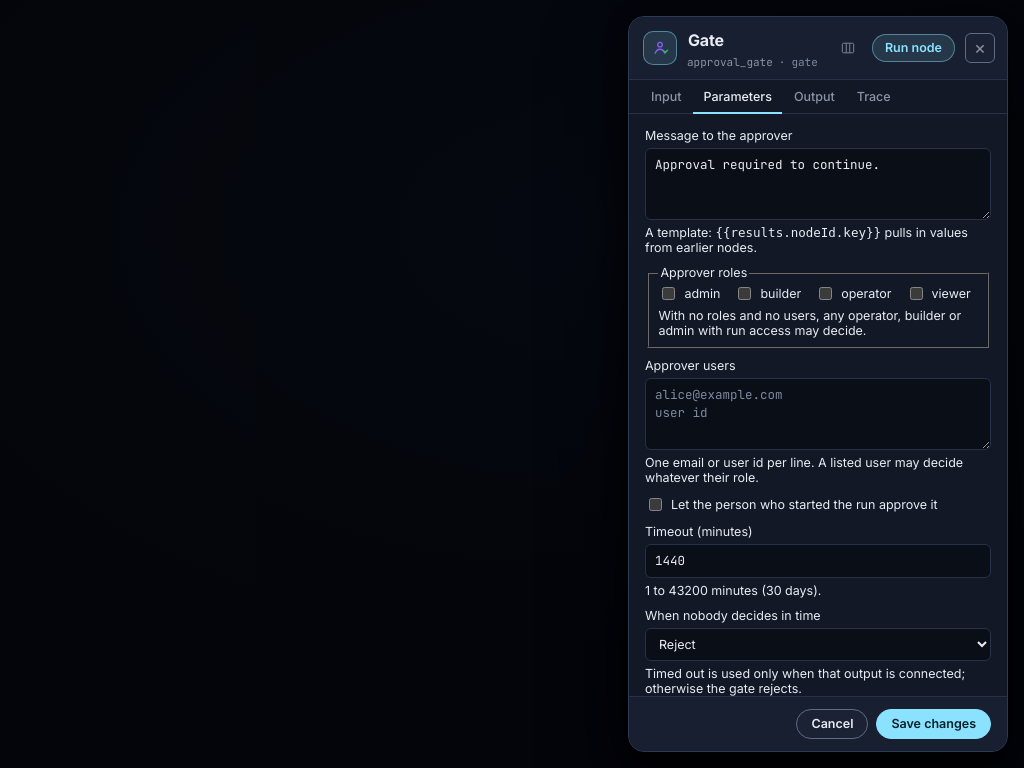
Test: NodeInspector › offers no pin for an Approval Gate, whose output only comes from a decision
Step 1. Click the tab "Output" → (814,97), box [784,80,845,114]
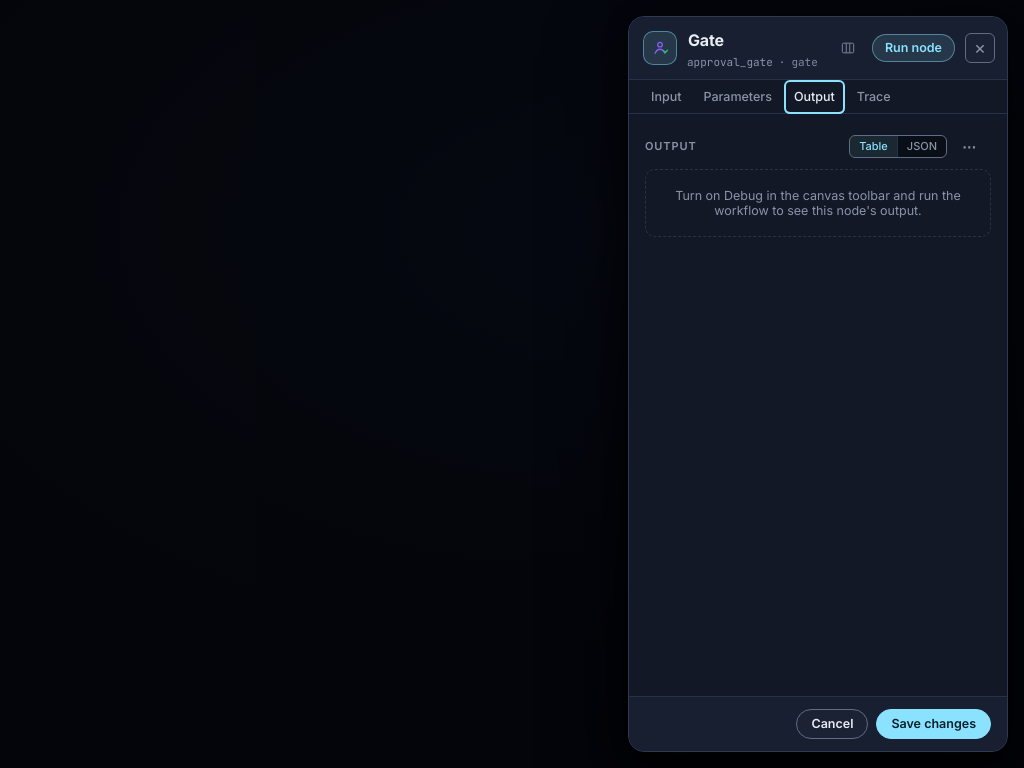
Step 2. Click the button named "Output options" → (969,146), box [955,132,983,160]
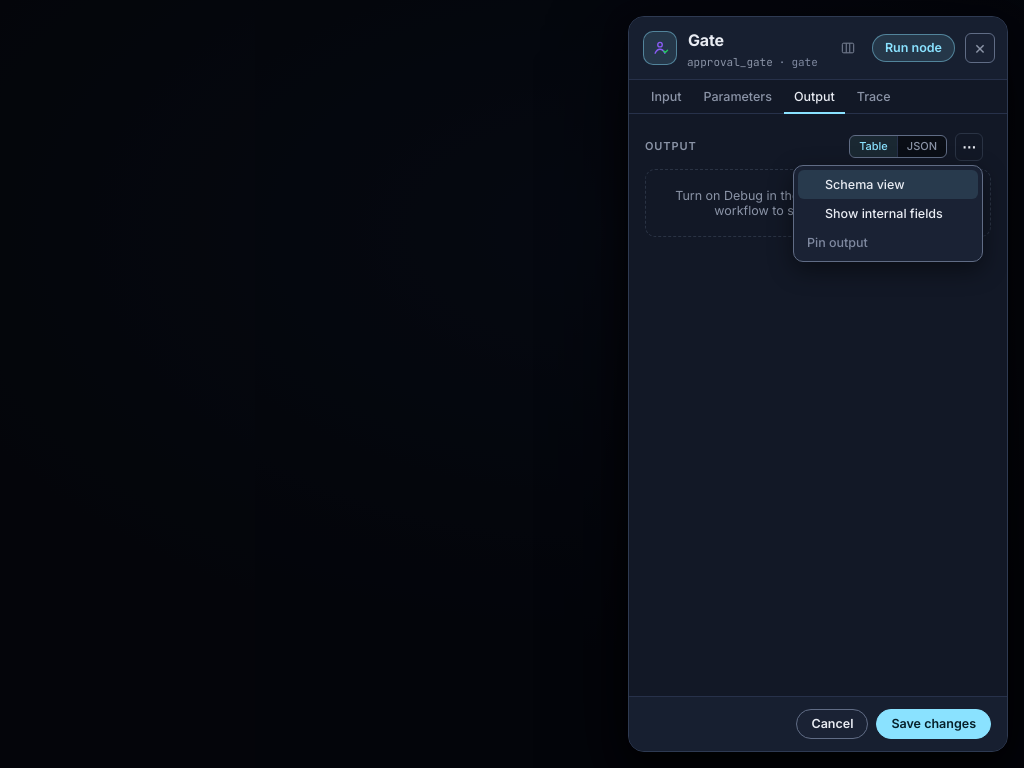
Expected: the menu item "Pin output" is disabled, [798,228,978,256]
